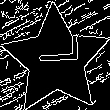L_W: (31, 43, 81, 77)
